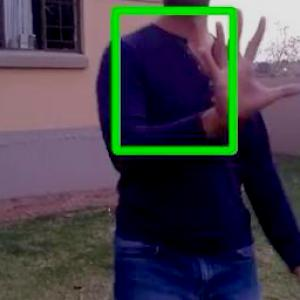follow_hand: (193, 6, 299, 121)
